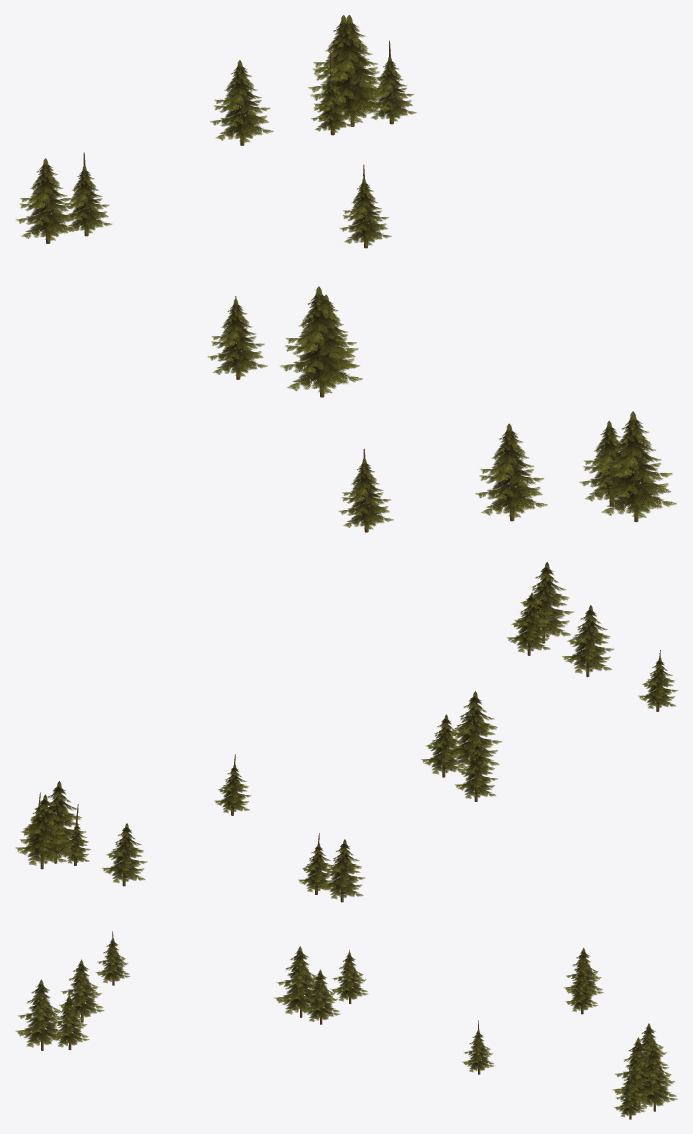
File: Laputa_arbres.glb
The picture shows the model from 3 angles, top to bottom: view 1: azimuth 30°, elevation 25°; view 2: azimuth 150°, elevation 25°; view 3: azimuth 270°, elevation 25°; orthographic projection. The views are drawn at different scales.
Visible parts, largest first — view 1: Leaves/001_Leavs_0.004, Leaves/001_Leavs_0.001, Leaves/001_Leavs_0.011, Leaves/001_Leavs_0.002, Leaves/001_Leavs_0.010, Leaves/001_Leavs_0.009, Leaves/001_Leavs_0.005, Leaves/001_Leavs_0.006, Leaves/001, Leaves/001_Leavs_0.007, Leaves/001_Leavs_0.008, Leaves/001_Leavs_0.013 (+2 smaller); view 2: Leaves/001_Leavs_0.004, Leaves/001_Leavs_0.012, Leaves/001_Leavs_0.002, Leaves/001_Leavs_0.001, Leaves/001_Leavs_0.011, Leaves/001, Leaves/001_Leavs_0.010, Leaves/001_Leavs_0.009, Leaves/001_Leavs_0.003, Leaves/001_Leavs_0.005, Leaves/001_Leavs_0.006, Leaves/001_Leavs_0.007 (+2 smaller); view 3: Leaves/001_Leavs_0.001, Leaves/001_Leavs_0.004, Leaves/001_Leavs_0.012, Leaves/001_Leavs_0.002, Leaves/001_Leavs_0.011, Leaves/001_Leavs_0.003, Leaves/001, Leaves/001_Leavs_0.005, Leaves/001_Leavs_0.006, Leaves/001_Leavs_0.009, Leaves/001_Leavs_0.008, Leaves/001_Leavs_0.007 (+2 smaller).
Part boxes in pixels (box(x1,y1,x2,y2)): Leaves/001_Leavs_0.004: box(280, 286, 362, 393); Leaves/001_Leavs_0.001: box(594, 411, 676, 518); Leaves/001_Leavs_0.011: box(310, 15, 393, 123); Leaves/001_Leavs_0.002: box(475, 423, 547, 517); Leaves/001_Leavs_0.010: box(210, 60, 273, 142); Leaves/001_Leavs_0.009: box(16, 158, 79, 240); Leaves/001_Leavs_0.005: box(207, 299, 267, 376); Leaves/001_Leavs_0.006: box(338, 459, 393, 529); Leaves/001: box(579, 420, 632, 503); Leaves/001_Leavs_0.007: box(339, 179, 391, 245); Leaves/001_Leavs_0.008: box(63, 166, 111, 233); Leaves/001_Leavs_0.013: box(370, 57, 416, 121); Leaves/001_Leavs_0.004: box(448, 691, 501, 768); Leaves/001_Leavs_0.012: box(15, 794, 69, 865); Leaves/001_Leavs_0.002: box(562, 605, 614, 673); Leaves/001_Leavs_0.001: box(514, 562, 573, 637); Leaves/001_Leavs_0.011: box(26, 781, 86, 859); Leaves/001: box(507, 592, 552, 652); Leaves/001_Leavs_0.010: box(102, 823, 147, 882); Leaves/001_Leavs_0.009: box(320, 839, 365, 899); Leaves/001_Leavs_0.003: box(421, 714, 465, 774); Leaves/001_Leavs_0.005: box(455, 742, 497, 798); Leaves/001_Leavs_0.006: box(638, 658, 677, 708); Leaves/001_Leavs_0.007: box(214, 764, 251, 812); Leaves/001_Leavs_0.001: box(15, 979, 64, 1047); Leaves/001_Leavs_0.004: box(274, 946, 317, 1014); Leaves/001_Leavs_0.012: box(637, 1046, 677, 1108); Leaves/001_Leavs_0.002: box(59, 959, 104, 1017); Leaves/001_Leavs_0.011: box(612, 1037, 663, 1103); Leaves/001_Leavs_0.003: box(300, 969, 339, 1021); Leaves/001: box(52, 995, 89, 1047); Leaves/001_Leavs_0.005: box(331, 952, 367, 1001); Leaves/001_Leavs_0.006: box(95, 938, 130, 983); Leaves/001_Leavs_0.009: box(564, 947, 603, 999); Leaves/001_Leavs_0.008: box(565, 969, 597, 1011); Leaves/001_Leavs_0.007: box(462, 1030, 494, 1072).
Size of the model in its own units: 234 by 52.27 by 443.
2 materials, 2 textured.
